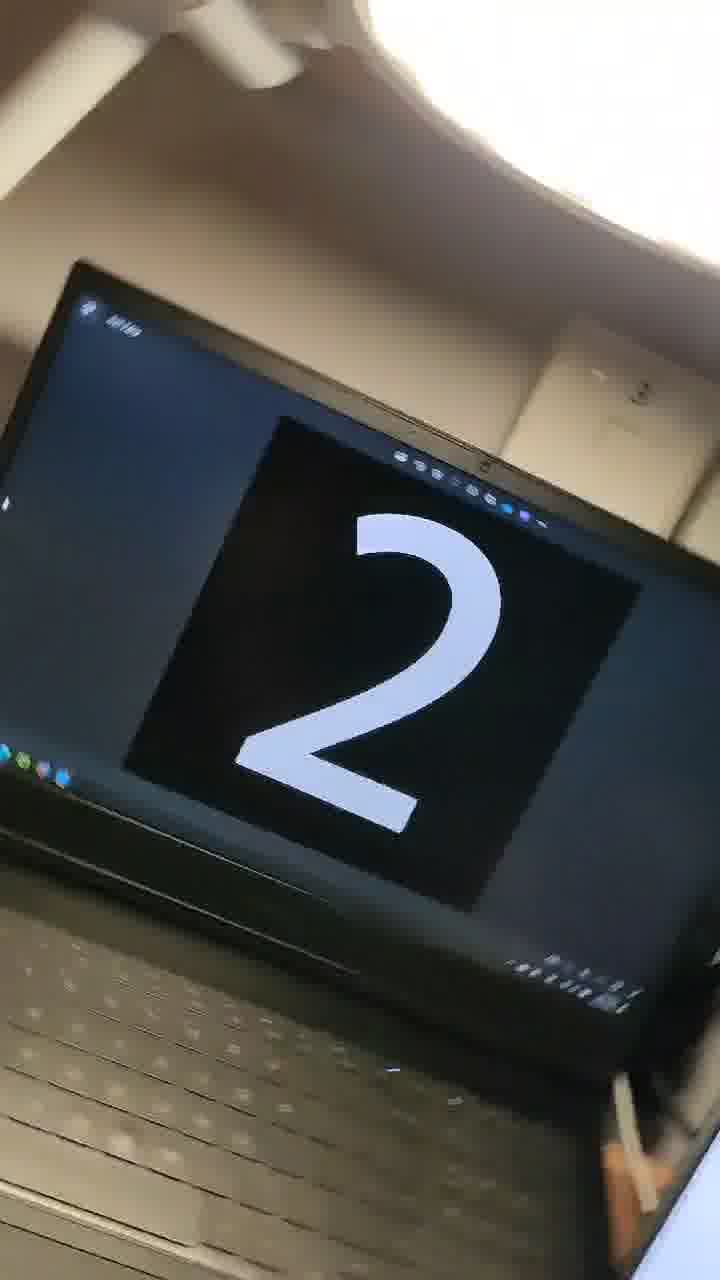two: (189, 412, 539, 973)
